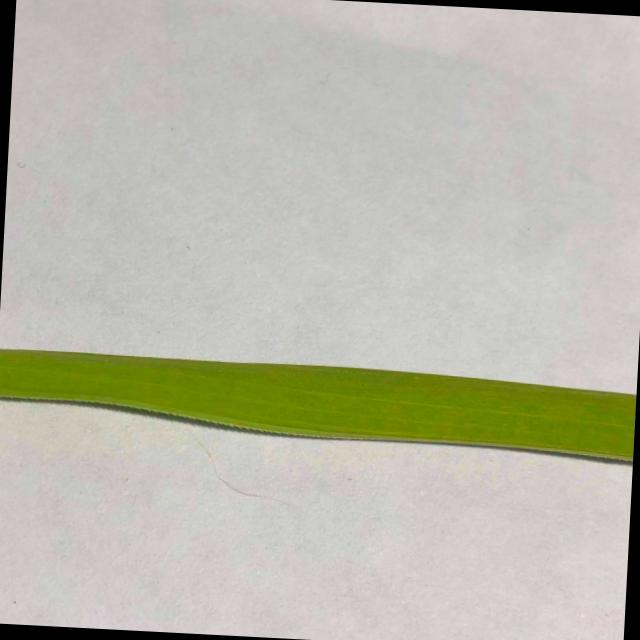Rice_Healthy: (0, 349, 636, 461)
